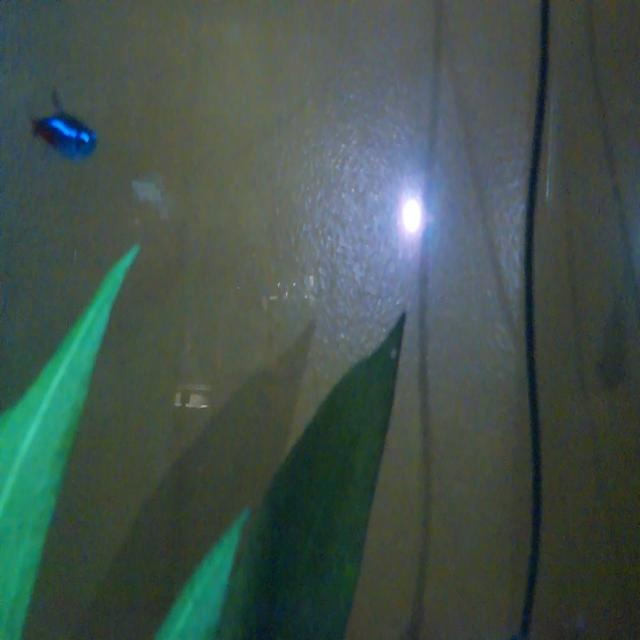fish: (15, 89, 110, 170)
